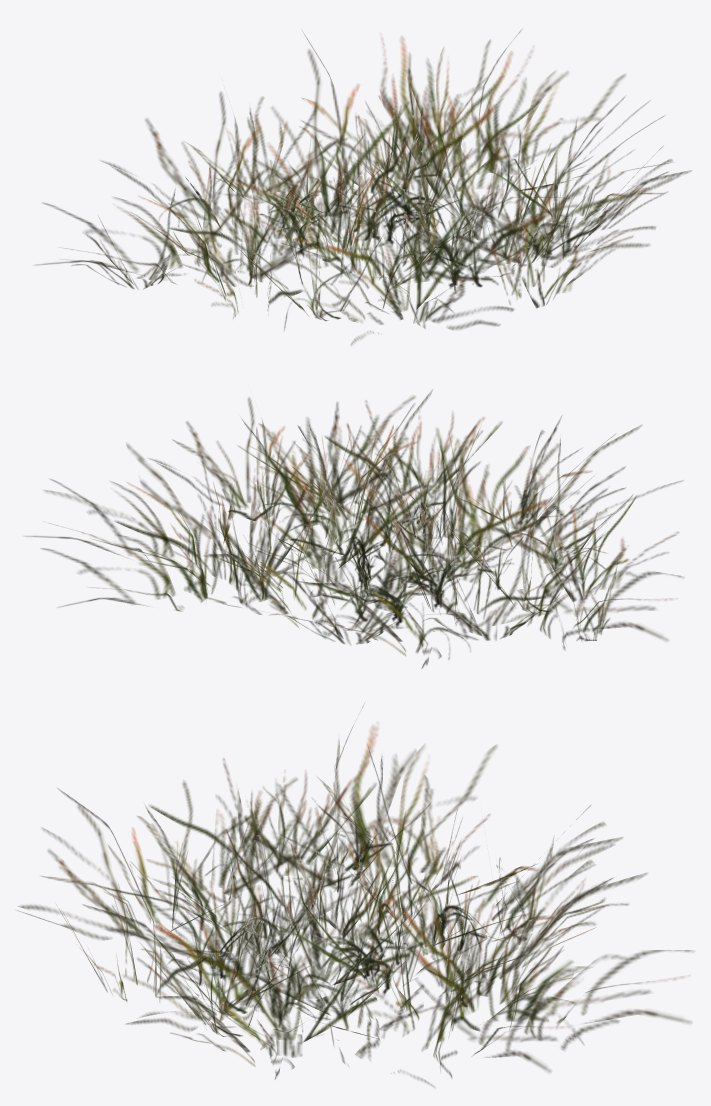
The model's file is veg-65.glb.
3 renders of one model, top to bottom at view 1: azimuth 30°, elevation 25°; view 2: azimuth 150°, elevation 25°; view 3: azimuth 270°, elevation 25°, orthographic. The views are drawn at different scales.
Visible parts, largest first — view 1: _hkxi_VarD_LOD4_65; view 2: _hkxi_VarD_LOD4_65; view 3: _hkxi_VarD_LOD4_65.
Boxes of the visible parts, <box> form: _hkxi_VarD_LOD4_65: <box>37,30,691,345</box>; _hkxi_VarD_LOD4_65: <box>25,389,682,668</box>; _hkxi_VarD_LOD4_65: <box>17,705,691,1087</box>.
Bounding box in the file's own units: 0.9539 × 0.2223 × 0.7804.
Materials: 1 (1 with a texture image).
